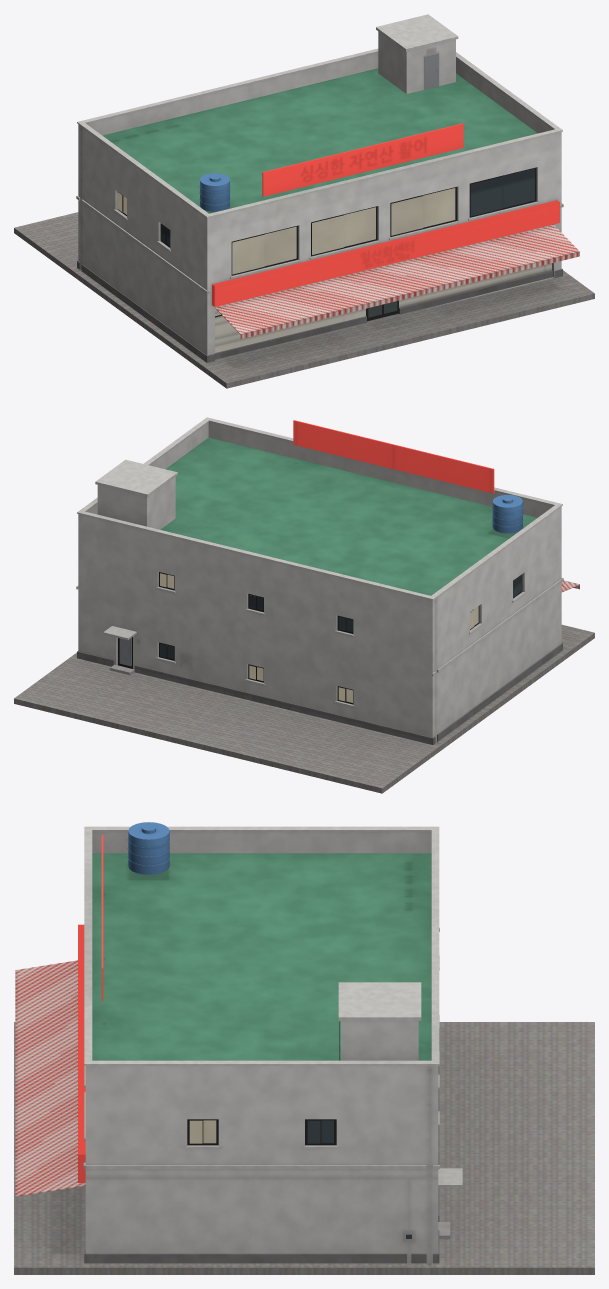
Rendered from IlsanHoetjip02_LOD2.fbx.
3 renders of one model, top to bottom at view 1: azimuth 30°, elevation 25°; view 2: azimuth 150°, elevation 25°; view 3: azimuth 270°, elevation 25°, orthographic. The views are drawn at different scales.
Parts seen in each view (by area): view 1: IlsanHoetjip02_LOD2; view 2: IlsanHoetjip02_LOD2; view 3: IlsanHoetjip02_LOD2.
Part boxes in pixels (x1,y1,x2,y2): IlsanHoetjip02_LOD2: [14, 14, 594, 388]; IlsanHoetjip02_LOD2: [14, 417, 594, 793]; IlsanHoetjip02_LOD2: [14, 822, 594, 1274].
Size of the model in its own units: 23.9 by 11.15 by 23.9.
Materials: 1 (1 with a texture image).
